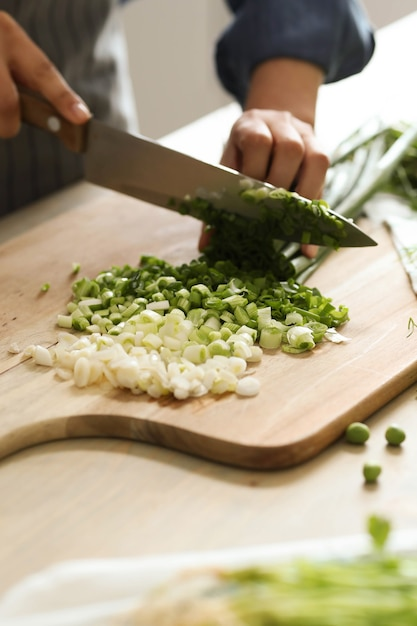knife: (86, 117, 374, 244)
